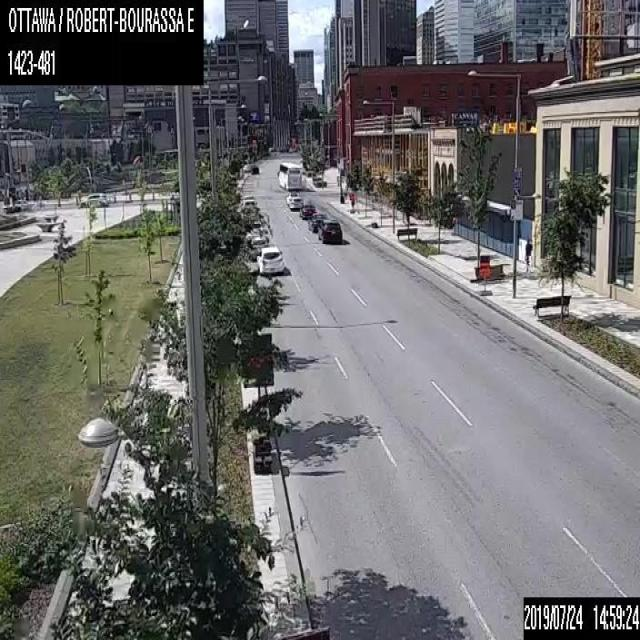bus: (276, 162, 302, 189)
construction: (241, 332, 273, 473), (477, 260, 491, 295)
pedestrian: (523, 239, 532, 272)
vehicle: (255, 245, 283, 275), (318, 219, 342, 244), (307, 212, 327, 232), (80, 192, 108, 206), (298, 200, 316, 220), (288, 194, 303, 209), (250, 164, 258, 174)
